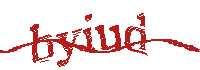b: (29, 23, 54, 63)
d: (125, 12, 148, 56)
i: (82, 14, 94, 53)
u: (95, 23, 124, 52)
y: (56, 29, 81, 68)
